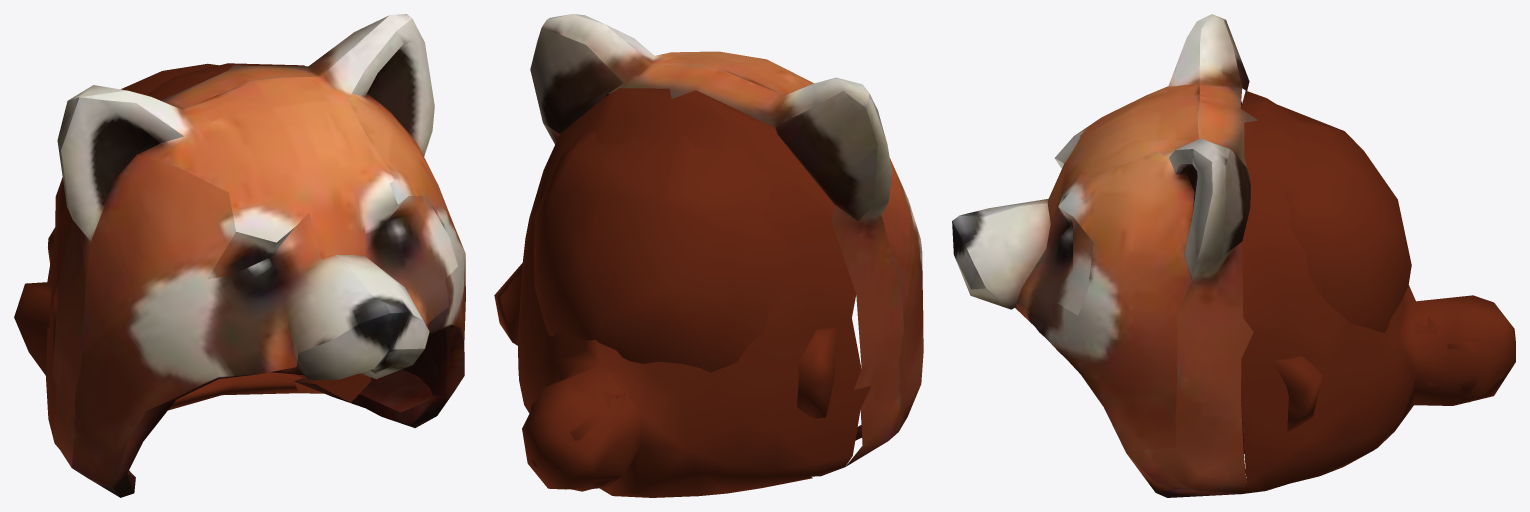
Rendered from red-panda.glb.
The picture shows the model from 3 angles, left to right: view 1: azimuth 30°, elevation 25°; view 2: azimuth 150°, elevation 25°; view 3: azimuth 270°, elevation 25°; orthographic projection. The views are drawn at different scales.
Parts seen in each view (by area): view 1: geometry_0, HoodAnatomicalLining; view 2: geometry_0, HoodAnatomicalLining; view 3: geometry_0, HoodAnatomicalLining.
Part boxes in pixels (box(x1,y1,x2,y2)): geometry_0: box(46, 14, 465, 497); HoodAnatomicalLining: box(14, 63, 370, 402); geometry_0: box(517, 14, 923, 497); HoodAnatomicalLining: box(494, 92, 836, 418); geometry_0: box(952, 14, 1515, 497); HoodAnatomicalLining: box(1240, 104, 1411, 453).
Bounding box in the file's own units: 0.48 × 0.4937 × 0.7078.
Materials: 2 (1 with a texture image).
